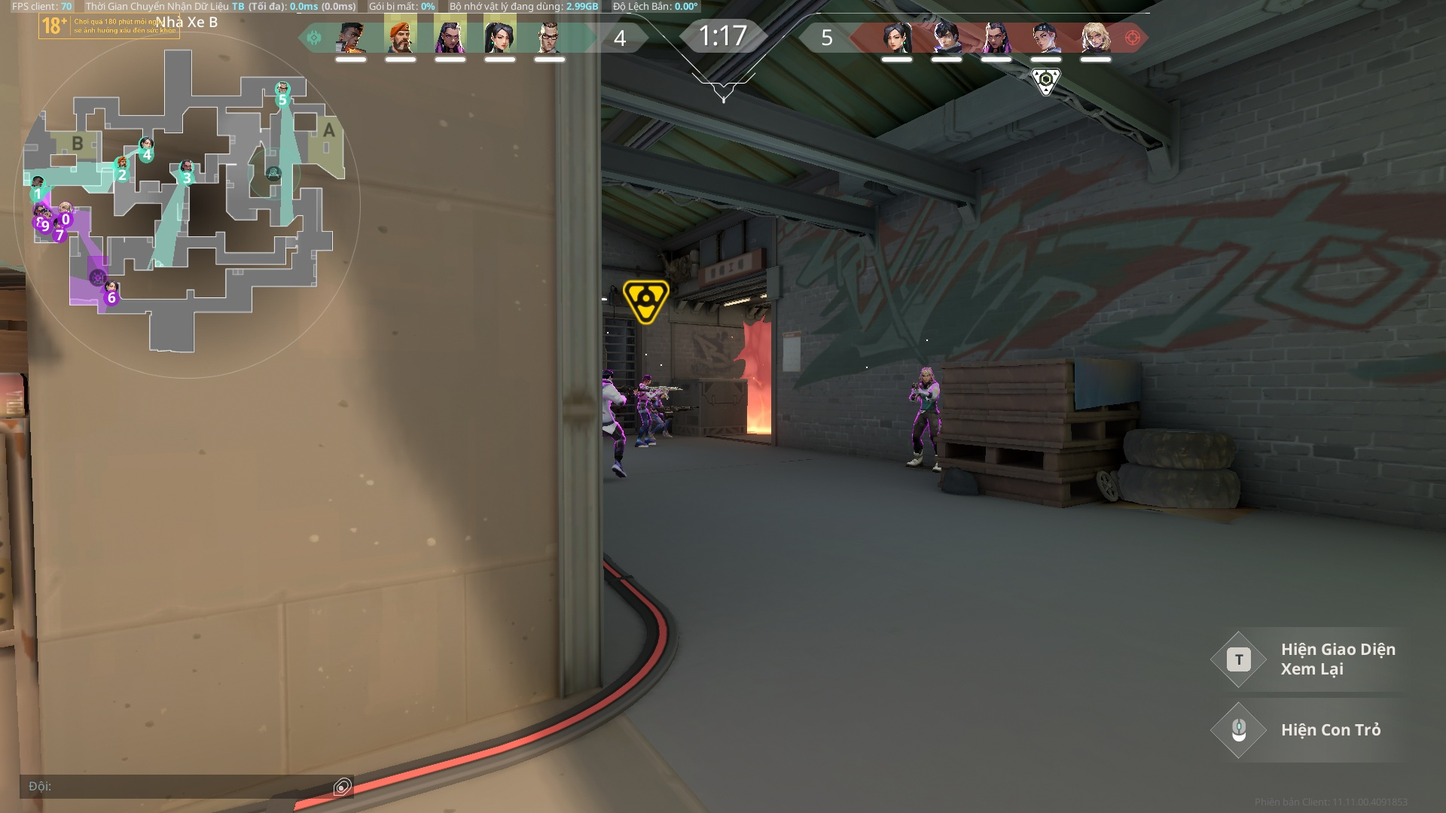body: (917, 380, 938, 410), (602, 381, 615, 421), (635, 385, 651, 413), (653, 394, 662, 411)
head: (920, 366, 932, 382), (602, 369, 615, 381), (641, 373, 652, 384), (657, 389, 667, 400)
